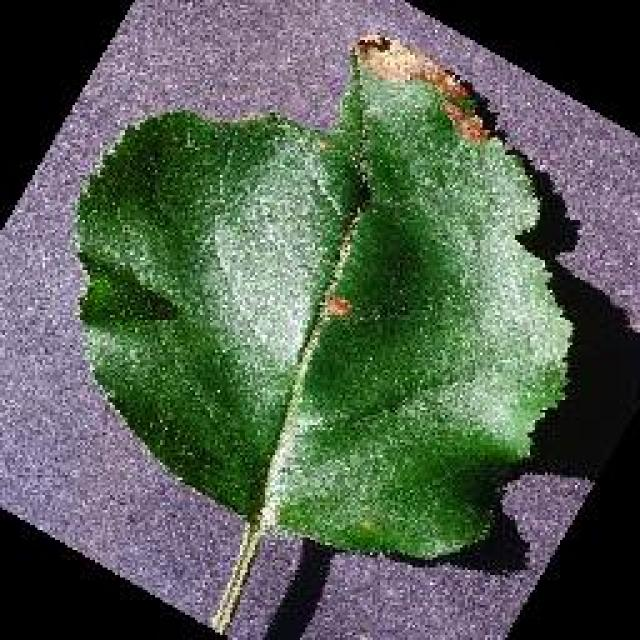Black_rot: (260, 30, 575, 560), (70, 105, 362, 523)
